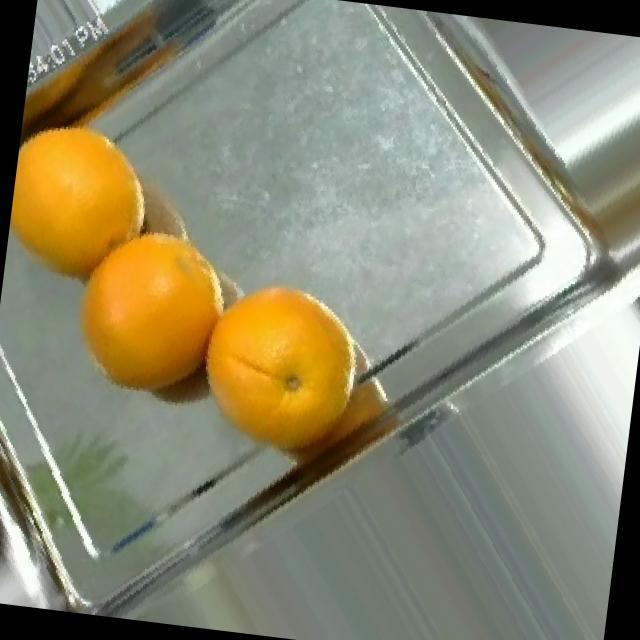Fruit: (0, 93, 172, 323)
